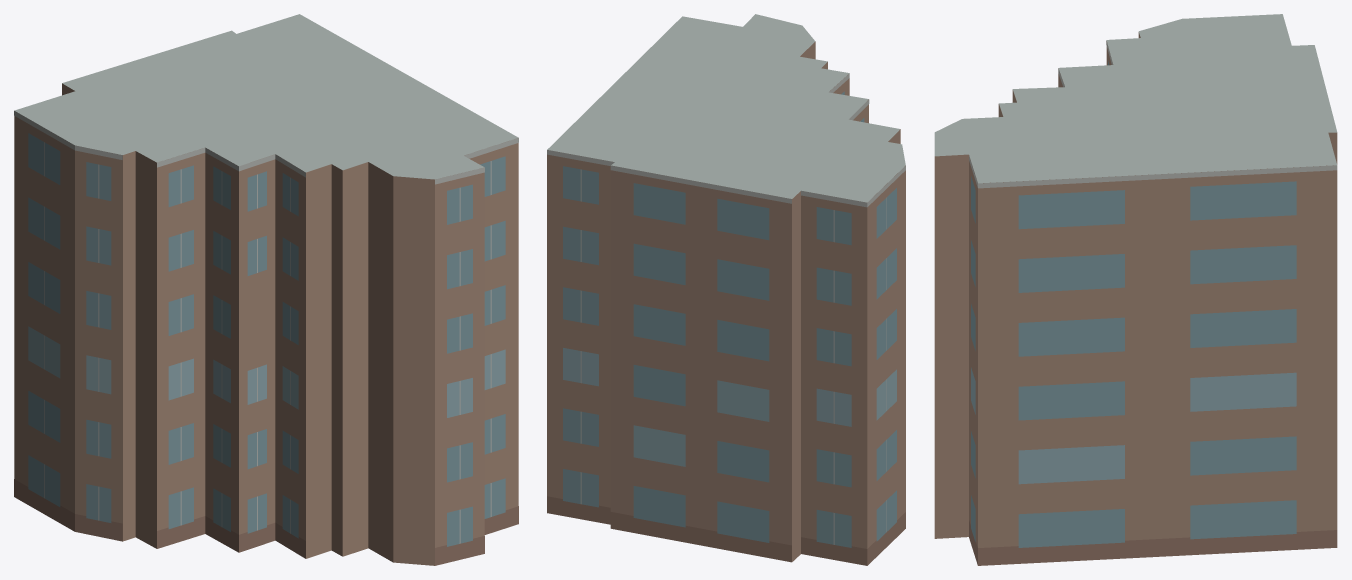
File: survey-upis-32580317.glb
The picture shows the model from 3 angles, left to right: view 1: azimuth 30°, elevation 25°; view 2: azimuth 150°, elevation 25°; view 3: azimuth 270°, elevation 25°; orthographic projection. The views are drawn at different scales.
Parts seen in each view (by area): view 1: survey-upis-32580317.tmp; view 2: survey-upis-32580317.tmp; view 3: survey-upis-32580317.tmp.
Part boxes in pixels (bbox=[...]): survey-upis-32580317.tmp: bbox=[14, 14, 518, 565]; survey-upis-32580317.tmp: bbox=[547, 14, 905, 565]; survey-upis-32580317.tmp: bbox=[934, 14, 1337, 565].
Size of the model in its own units: 17.58 by 18.5 by 17.67.
